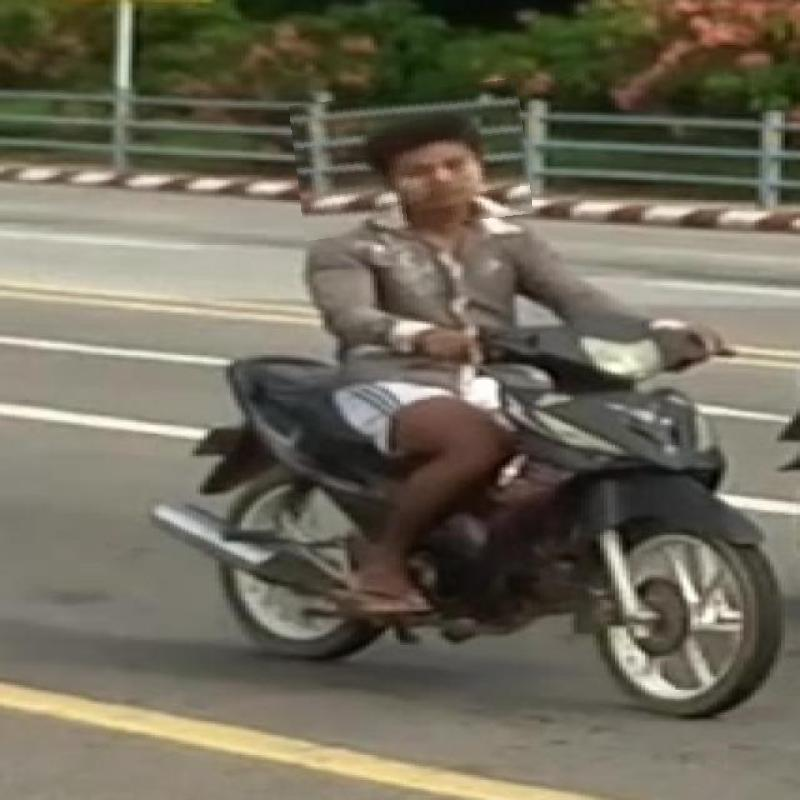nohelmet: (292, 84, 530, 234)
